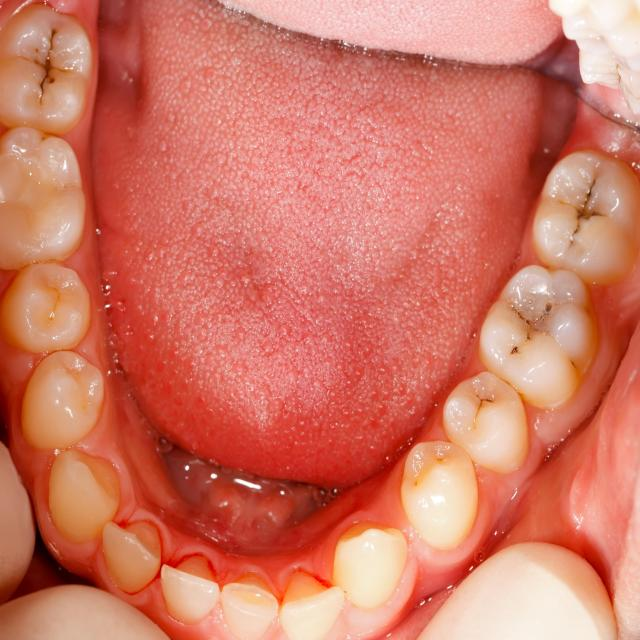crack: (478, 264, 600, 410), (532, 149, 640, 285), (0, 125, 86, 271), (0, 4, 93, 135), (441, 371, 529, 475), (400, 440, 478, 551), (20, 350, 105, 449), (0, 262, 91, 354), (49, 449, 121, 542), (332, 522, 408, 609), (102, 520, 162, 594), (280, 571, 344, 640), (160, 556, 220, 625), (221, 572, 278, 640)
tooth: (33, 28, 58, 107), (474, 395, 495, 420), (510, 303, 530, 324), (577, 210, 586, 219), (510, 347, 518, 355), (570, 360, 576, 369), (592, 211, 602, 216), (48, 78, 55, 83), (588, 190, 591, 196), (547, 307, 551, 311), (574, 229, 578, 233), (527, 336, 530, 340), (42, 137, 45, 140), (36, 49, 38, 52)
